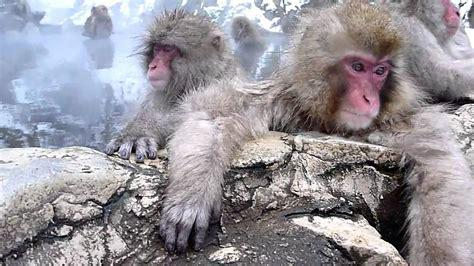monkey: (163, 4, 474, 265), (104, 15, 226, 160)
